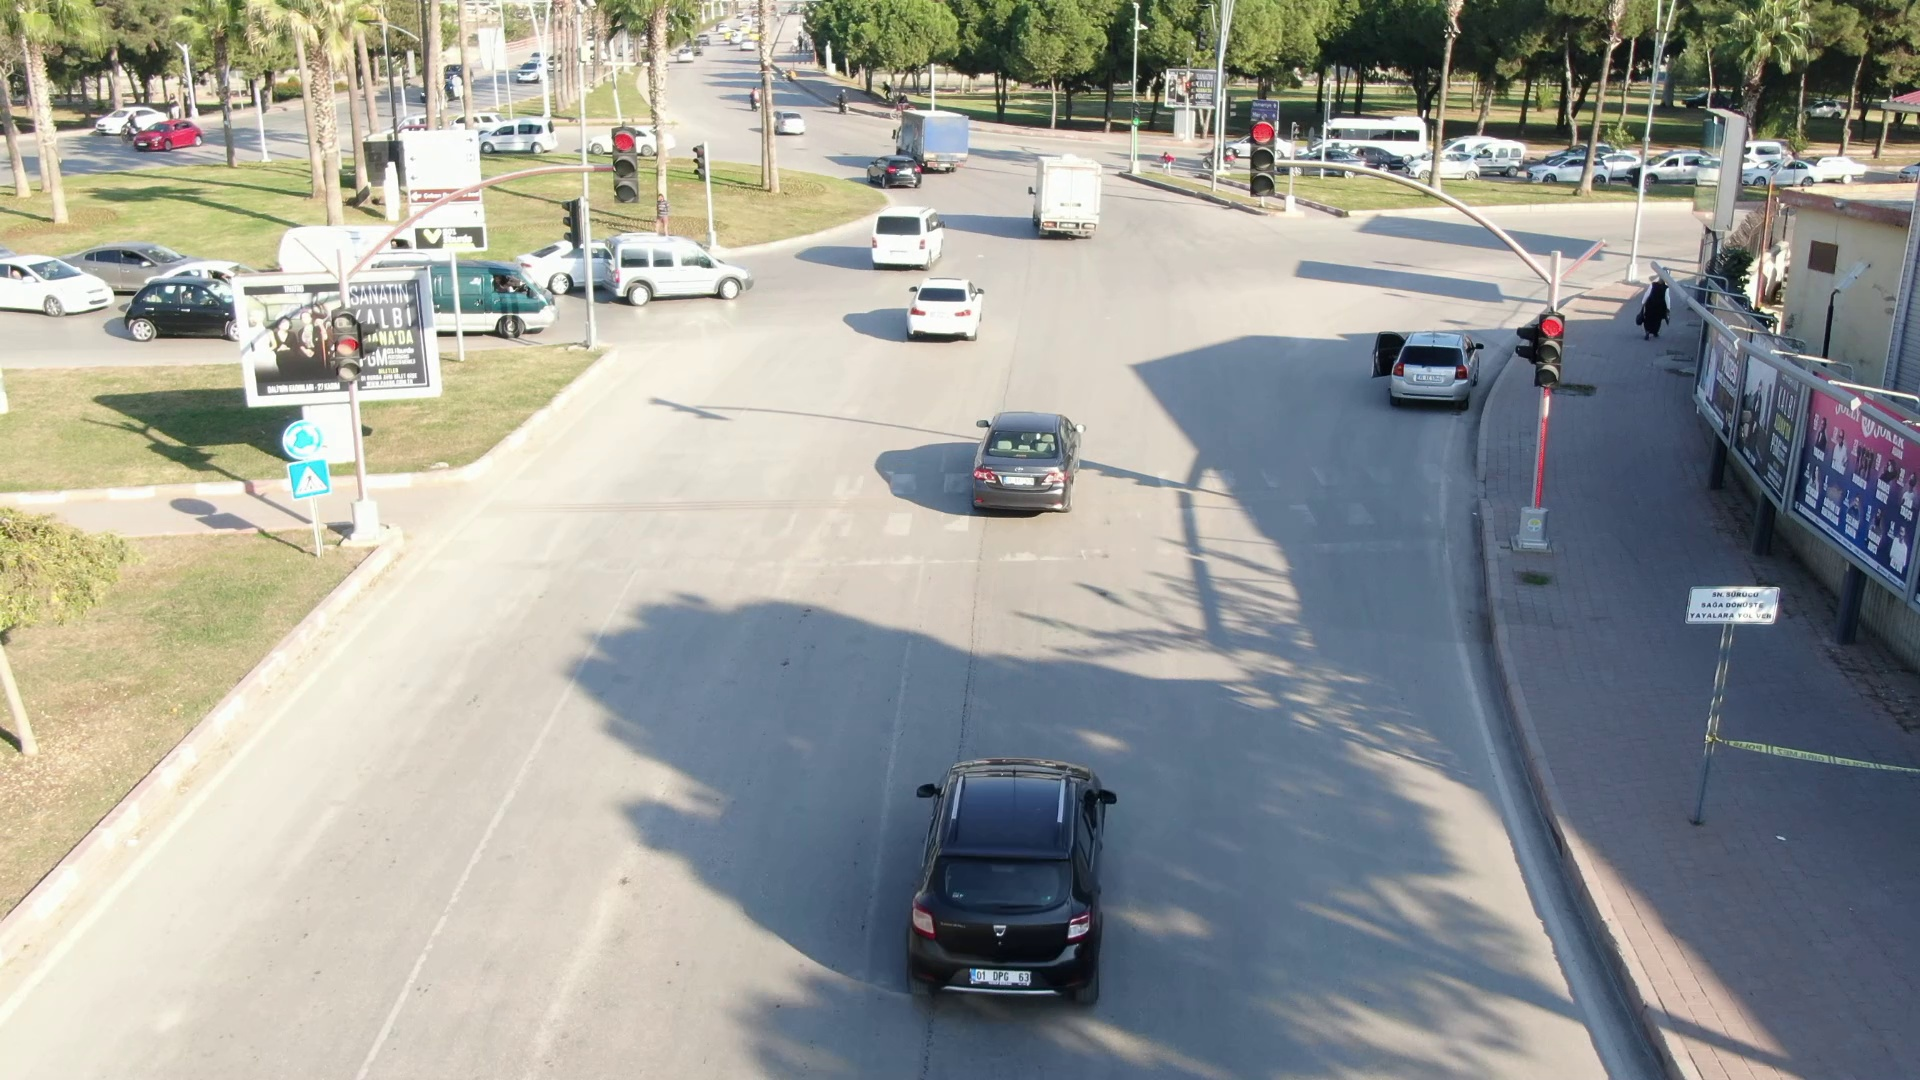car: (870, 734, 1170, 1014), (951, 389, 1101, 521), (600, 222, 760, 312), (1365, 319, 1498, 415), (1020, 144, 1106, 248), (902, 271, 998, 351), (857, 195, 950, 270), (860, 147, 927, 197)
person: (1635, 268, 1680, 343)
